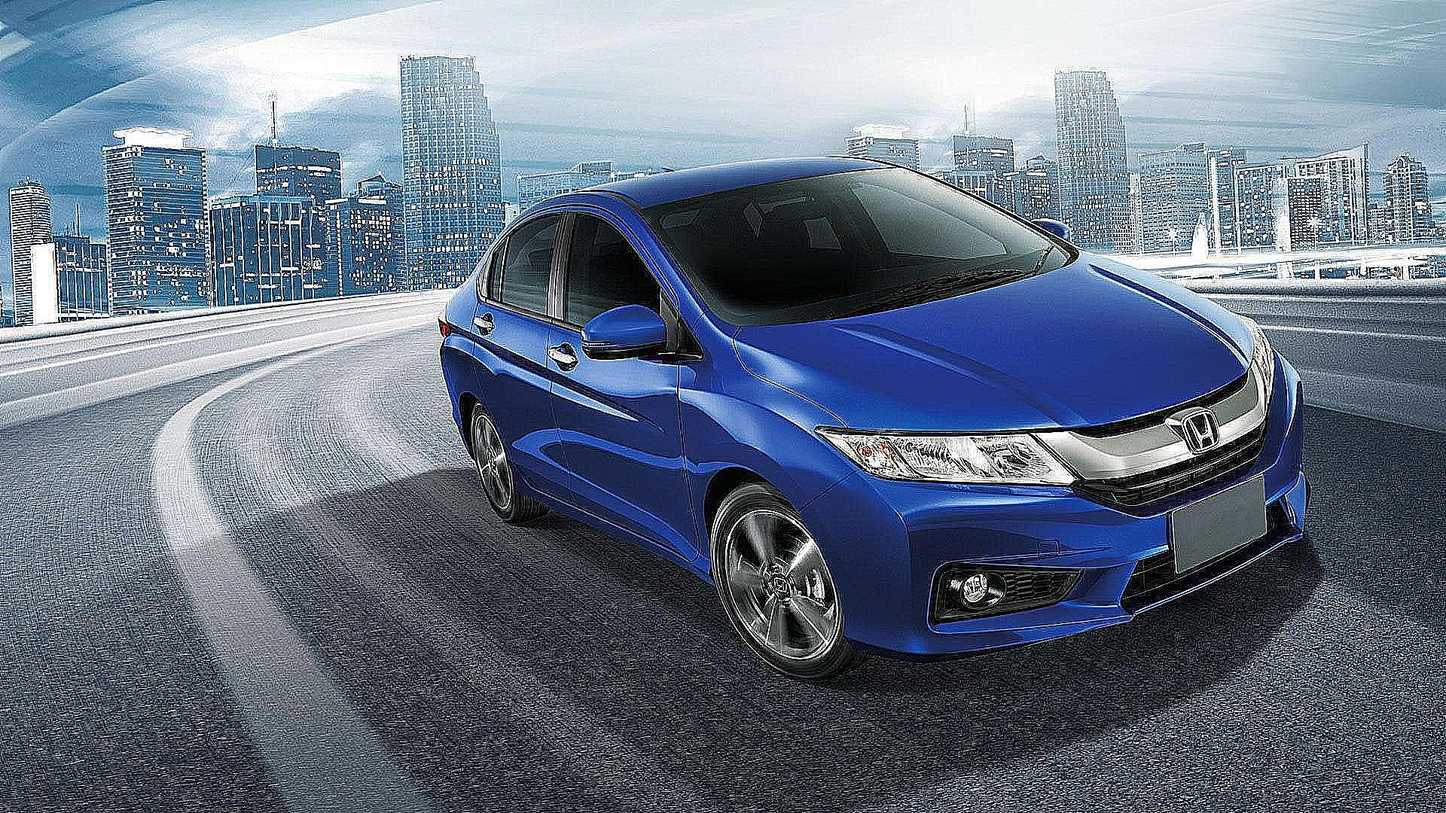Car hood: (735, 247, 1258, 428)
Driver-s door - -F-R-: (549, 182, 702, 586)
Fender - -F-R-: (673, 313, 866, 549)
Fender - -R-R-: (435, 252, 482, 425)
Front bumper: (799, 354, 1331, 656)
Headlight - -L-: (1242, 315, 1279, 416)
Headlight - -R-: (815, 427, 1078, 492)
Passenger-s door - -R-R-: (467, 187, 564, 521)
Rear bumper: (443, 371, 475, 459)
Side bumper - -R-: (500, 447, 715, 602)
Side mirror - -R-: (580, 303, 687, 360)
